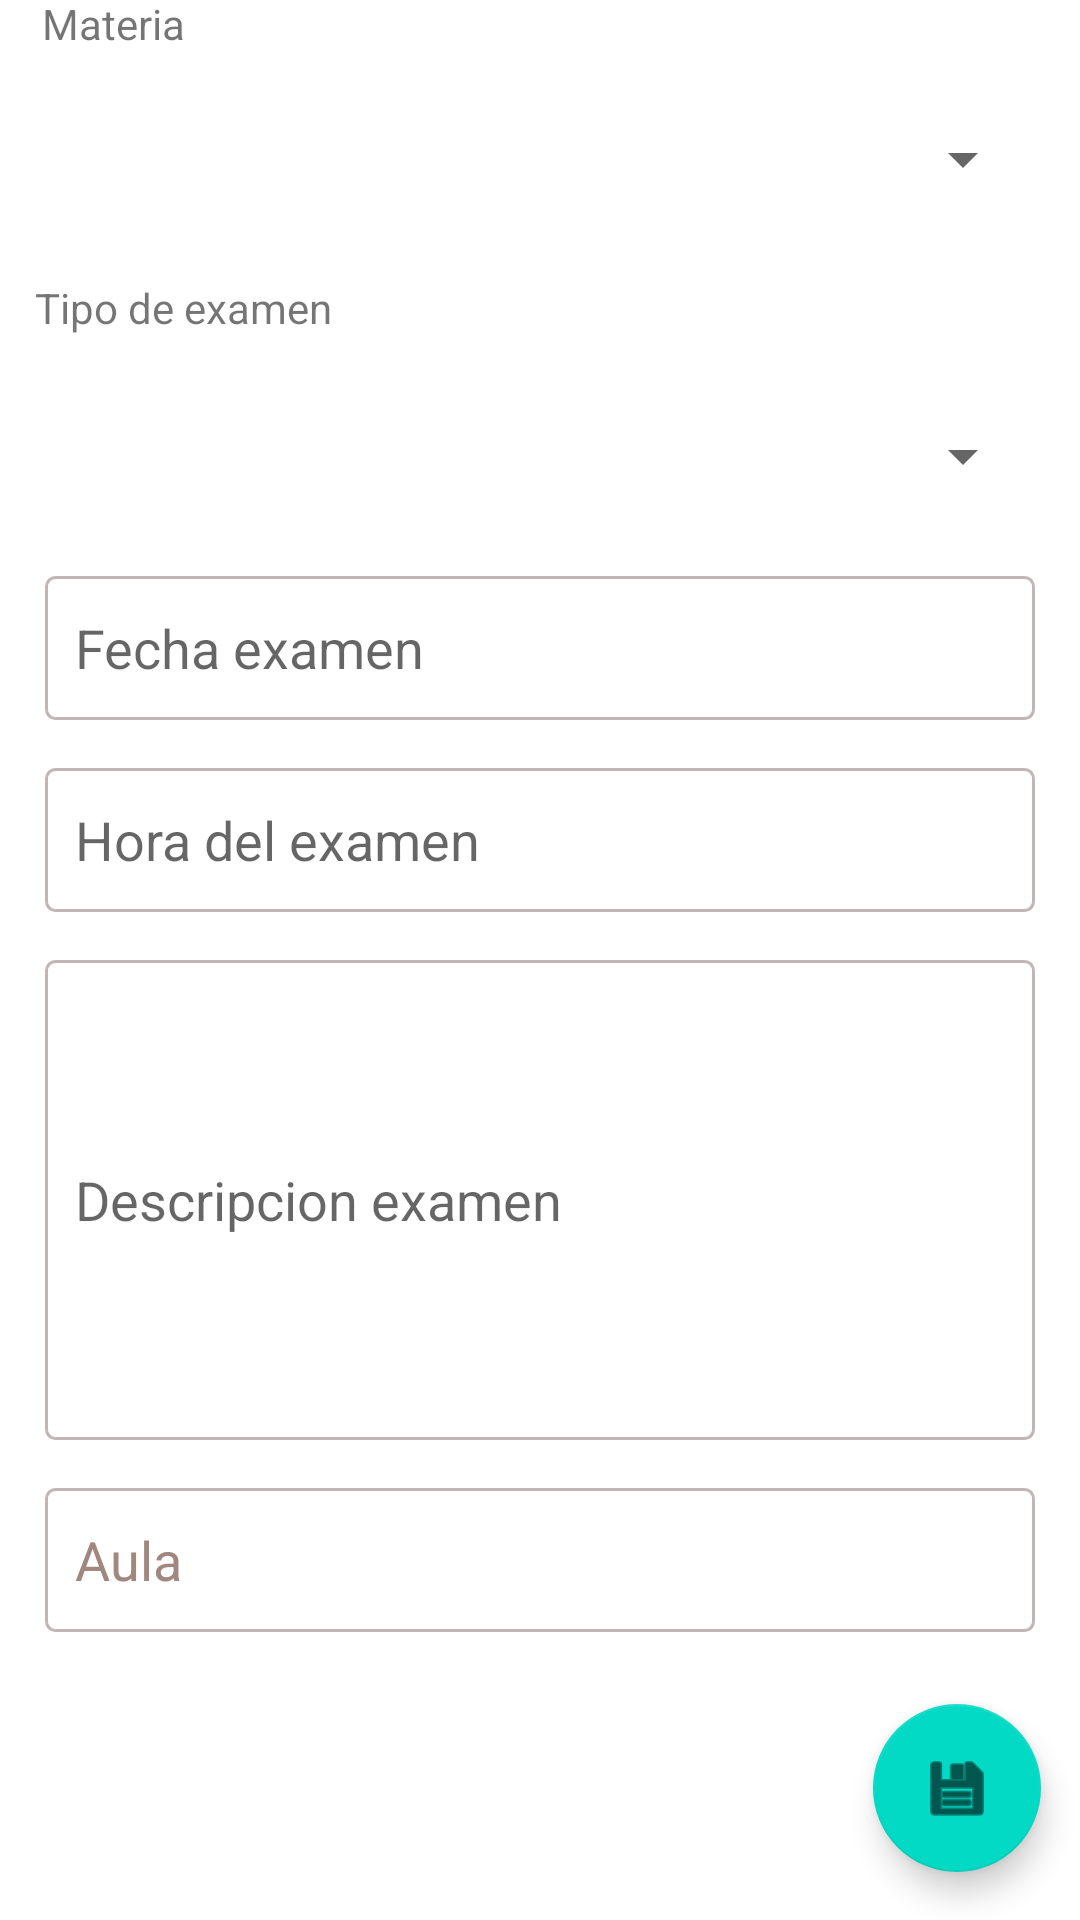

Named icons in this screenshot (1080w x 1920h) and their bounding boxes, detection(x1, y1, x2, y2):
save: detection(873, 1704, 1041, 1872)
